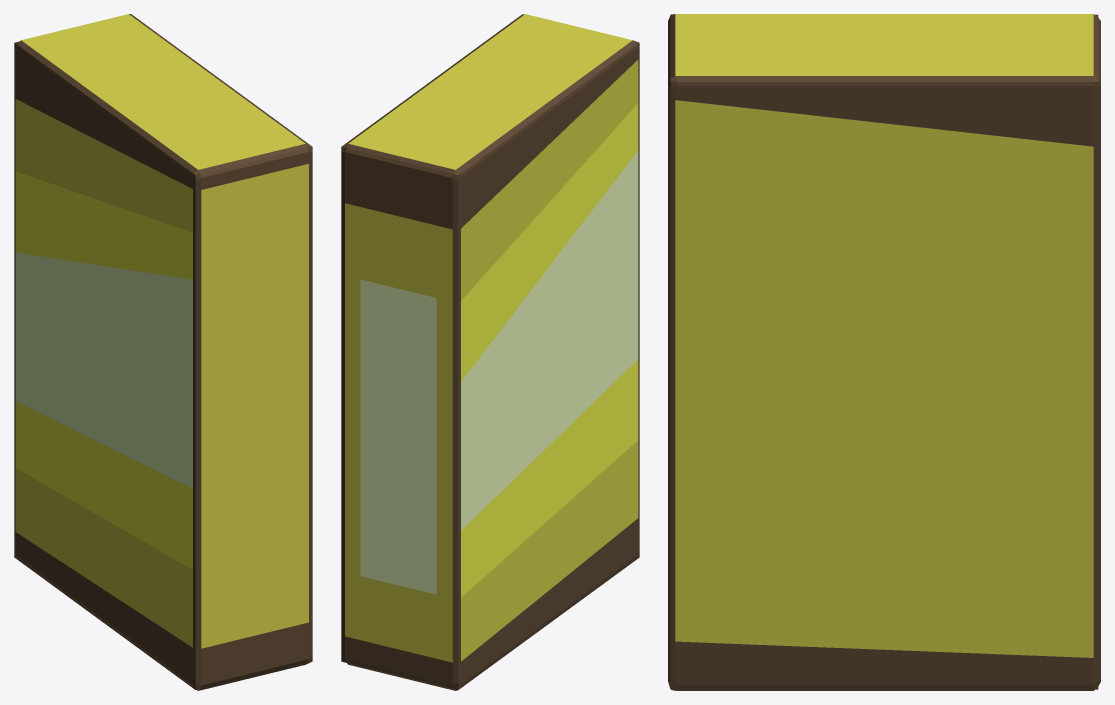
Rendered from cereal.fbx.
The picture shows the model from 3 angles, left to right: view 1: azimuth 30°, elevation 25°; view 2: azimuth 150°, elevation 25°; view 3: azimuth 270°, elevation 25°; orthographic projection. The views are drawn at different scales.
Visible parts, largest first — view 1: Cube; view 2: Cube; view 3: Cube.
Part boxes in pixels (x1,y1,x2,y2): Cube: [14, 14, 312, 690]; Cube: [341, 14, 639, 690]; Cube: [668, 14, 1100, 690].
Size of the model in its own units: 6.91 by 29.03 by 18.52.
